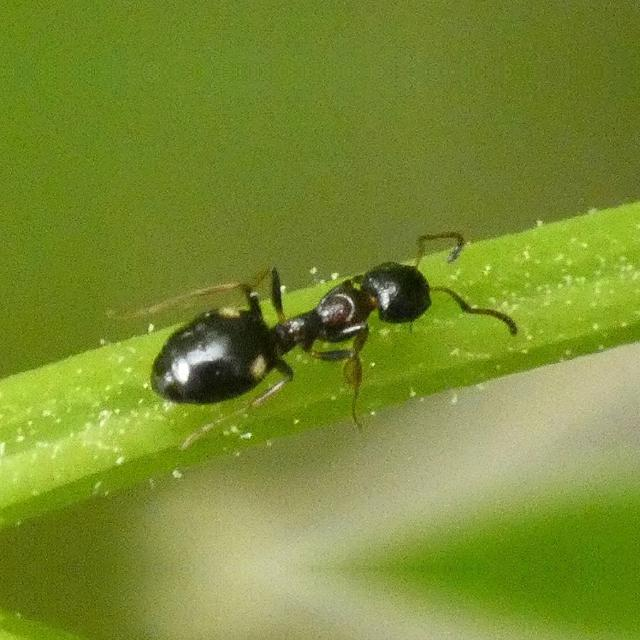Dolichoderus: (107, 236, 475, 432)
